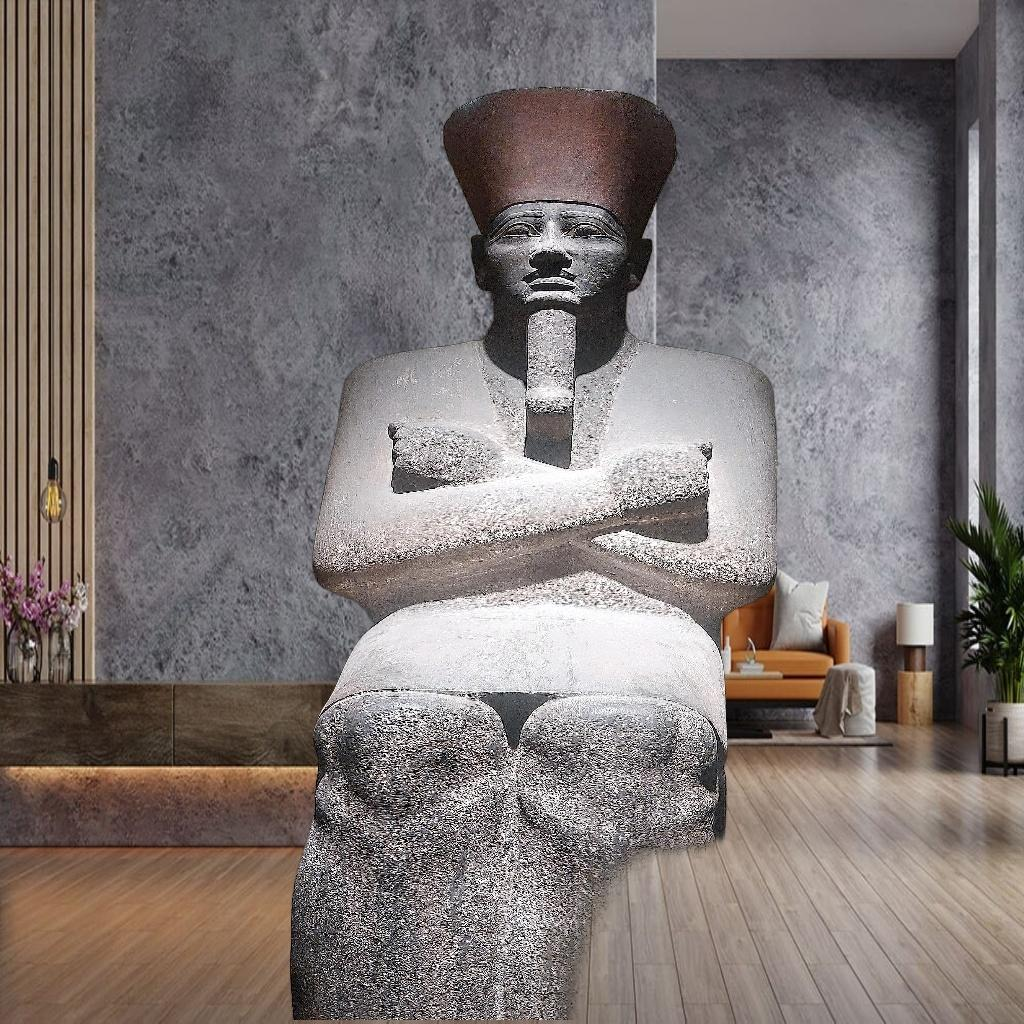Mentuhotep Nebhetpre: (250, 12, 792, 1020)
